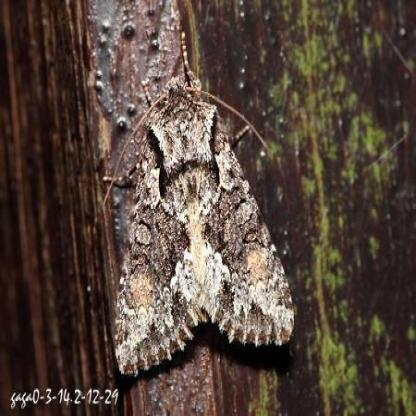armyworm: (108, 63, 304, 380)
